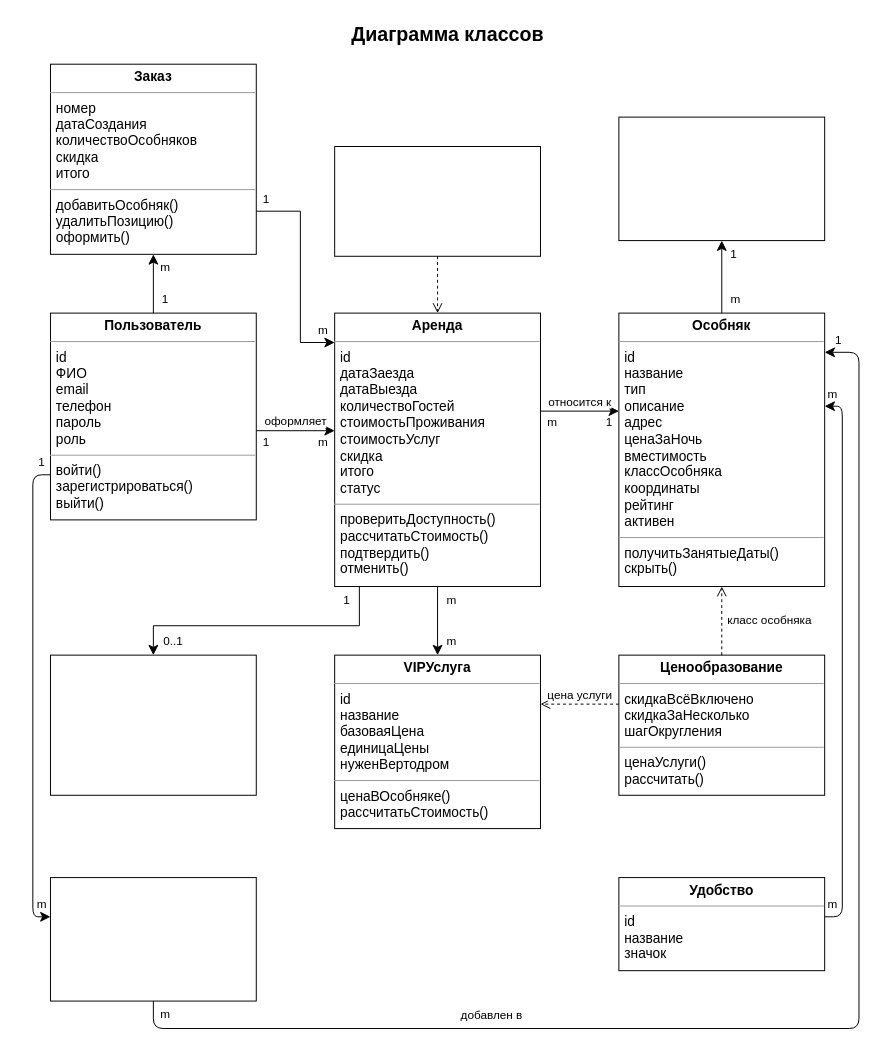
This 886x1055 diagram has some shape labels left out. Here are the shapes that lost their labels. From the top down, the centre of each, then its label:
At point (721, 178): "Город id название выбрать() получитьОсобняки()".
At point (437, 201): "СтатусАренды ожидает подтверждения подтверждена отменена завершена".
At point (152, 724): "Отзыв id оценка комментарий дата оставитьОтзыв()".
At point (152, 939): "Избранное пользователь особняк добавить() удалить()".
